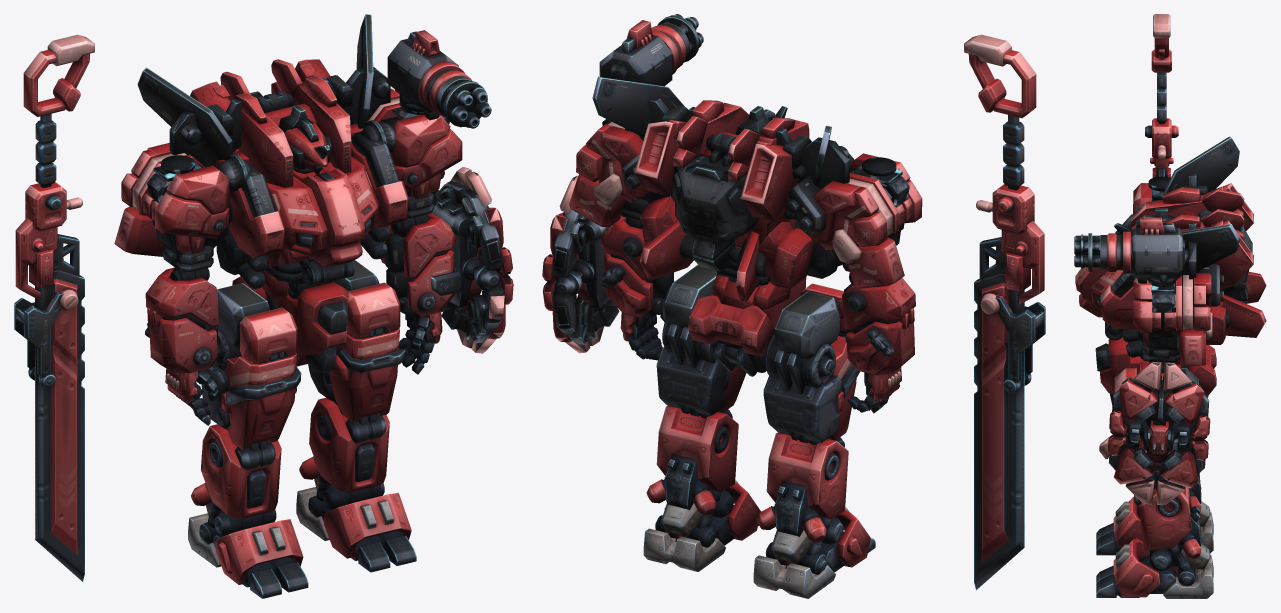
3 views of the same model, side by side, from view 1: azimuth 30°, elevation 25°; view 2: azimuth 150°, elevation 25°; view 3: azimuth 270°, elevation 25° (orthographic). The views are drawn at different scales.
Visible parts, largest first — view 1: sword.001_Plane.052, Cube.048_Cube.035, Cube.052_Cube.040, Cube.047_Cube.024, Cube.046_Cube.021, Plane.075_Plane.083, Plane.090_Plane.103, Cube.049_Cube.037, Plane.087_Plane.099, Plane.070_Plane.078, Plane.091_Plane.104, Plane.063_Plane.071 (+39 smaller); view 2: sword.001_Plane.052, Cube.047_Cube.024, Cube.046_Cube.021, Cube.048_Cube.035, Plane.065_Plane.073, Plane.072_Plane.080, Plane.069_Plane.077, Plane.085_Plane.097, Cube.049_Cube.037, Plane.075_Plane.083, Plane.090_Plane.103, Plane.066_Plane.074 (+29 smaller); view 3: Cube.048_Cube.035, Plane.087_Plane.099, shield.002_Plane.114, Plane.059_Plane.068, Plane.075_Plane.083, sword.001_Plane.052, Plane.072_Plane.080, Cube.046_Cube.021, shield.004_Plane.116, Cube.049_Cube.037, Plane.069_Plane.077, shield.001_Plane.054 (+32 smaller).
Boxes of the visible parts, <box> form: sword.001_Plane.052: <box>14,34,94,581</box>; Cube.048_Cube.035: <box>188,487,416,598</box>; Cube.052_Cube.040: <box>224,328,404,449</box>; Cube.047_Cube.024: <box>201,260,400,451</box>; Cube.046_Cube.021: <box>200,397,389,519</box>; Plane.075_Plane.083: <box>220,59,351,187</box>; Plane.090_Plane.103: <box>145,213,455,327</box>; Cube.049_Cube.037: <box>191,400,386,544</box>; Plane.087_Plane.099: <box>137,14,373,167</box>; Plane.070_Plane.078: <box>267,156,378,257</box>; Plane.091_Plane.104: <box>149,250,455,372</box>; Plane.063_Plane.071: <box>142,129,462,238</box>; sword.001_Plane.052: <box>964,34,1045,590</box>; Cube.047_Cube.024: <box>656,265,845,443</box>; Cube.046_Cube.021: <box>656,406,848,568</box>; Cube.048_Cube.035: <box>643,480,875,598</box>; Plane.065_Plane.073: <box>586,124,878,263</box>; Plane.072_Plane.080: <box>639,196,813,301</box>; Plane.069_Plane.077: <box>634,120,799,221</box>; Plane.085_Plane.097: <box>673,153,759,271</box>; Cube.049_Cube.037: <box>646,407,844,574</box>; Plane.075_Plane.083: <box>676,100,809,166</box>; Plane.090_Plane.103: <box>601,215,915,330</box>; Plane.066_Plane.074: <box>569,174,904,288</box>; Cube.048_Cube.035: <box>1096,497,1213,598</box>; Plane.087_Plane.099: <box>1161,136,1239,286</box>; shield.002_Plane.114: <box>1113,379,1204,488</box>; Plane.059_Plane.068: <box>1131,217,1184,284</box>; Plane.075_Plane.083: <box>1131,187,1244,231</box>; sword.001_Plane.052: <box>1150,14,1173,177</box>; Plane.072_Plane.080: <box>1193,271,1266,344</box>; Cube.046_Cube.021: <box>1138,486,1195,578</box>; shield.004_Plane.116: <box>1125,362,1191,504</box>; Cube.049_Cube.037: <box>1134,486,1201,586</box>; Plane.069_Plane.077: <box>1202,183,1253,290</box>; shield.001_Plane.054: <box>1108,375,1209,489</box>.
Bounding box in the file's own units: 7.08 × 8.15 × 3.1.
Materials: 5 (5 with a texture image).
